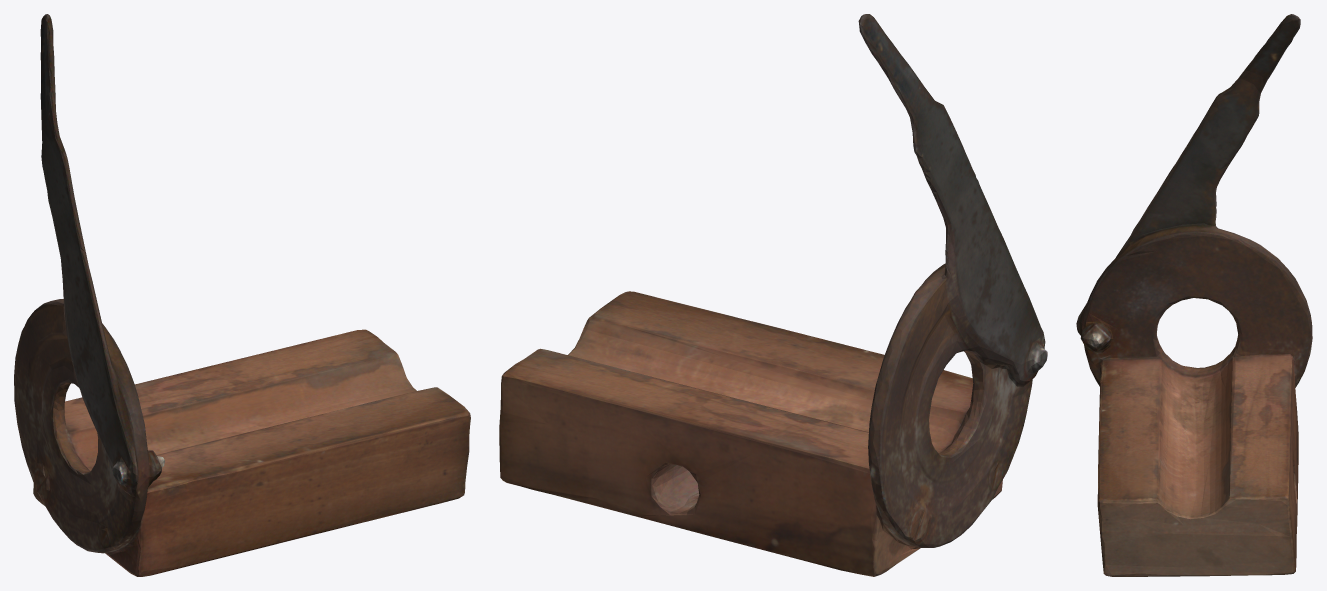
3 views of the same model, side by side, from view 1: azimuth 30°, elevation 25°; view 2: azimuth 150°, elevation 25°; view 3: azimuth 270°, elevation 25° (orthographic). The views are drawn at different scales.
Parts seen in each view (by area): view 1: Tabakschneidemaschine_3k_2k; view 2: Tabakschneidemaschine_3k_2k; view 3: Tabakschneidemaschine_3k_2k.
Boxes of the visible parts, left/top/right/bottom form: Tabakschneidemaschine_3k_2k: left=14, top=14, right=470, bottom=576; Tabakschneidemaschine_3k_2k: left=499, top=14, right=1047, bottom=576; Tabakschneidemaschine_3k_2k: left=1076, top=14, right=1312, bottom=576.
Size of the model in its own units: 0.1352 by 0.1743 by 0.0865.
1 material, 1 textured.
